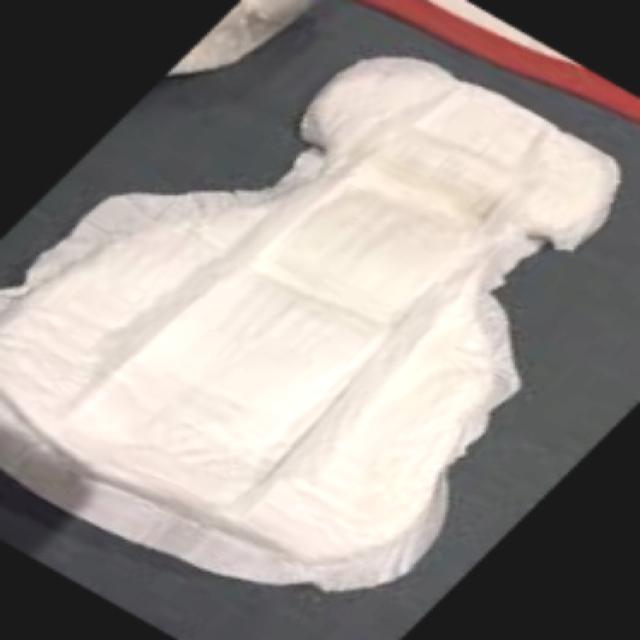B3: (34, 116, 630, 519)
